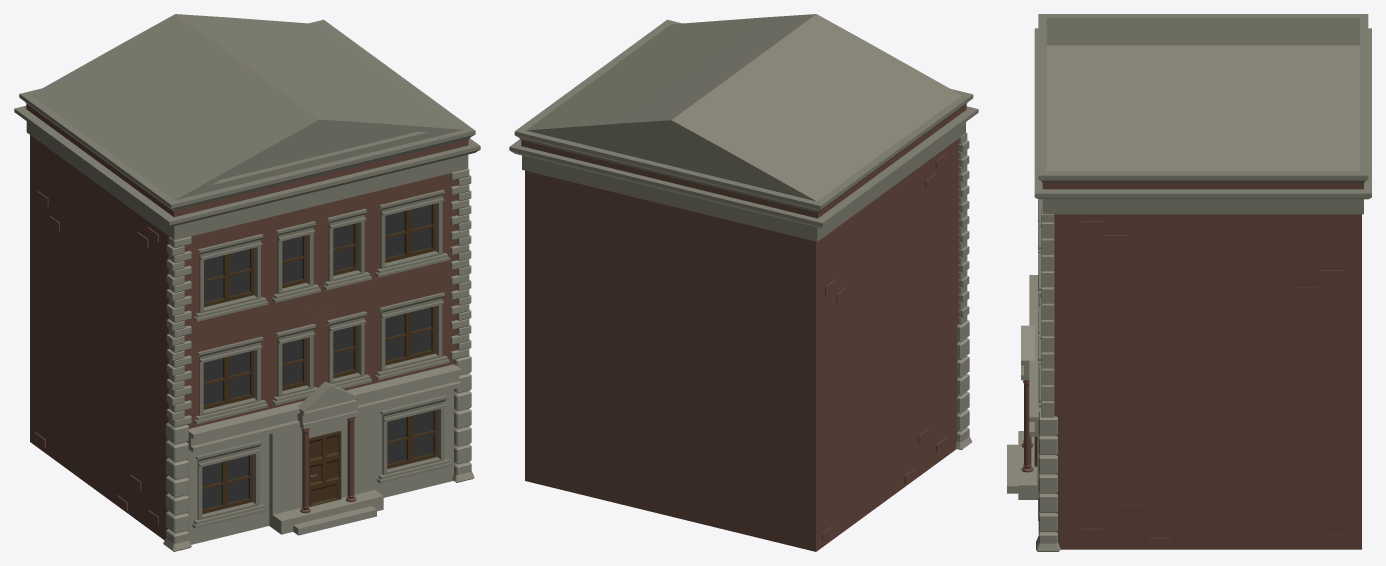
Rendered from Building3_Big.glb.
3 views of the same model, side by side, from view 1: azimuth 30°, elevation 25°; view 2: azimuth 150°, elevation 25°; view 3: azimuth 270°, elevation 25° (orthographic). The views are drawn at different scales.
Parts seen in each view (by area): view 1: Building3_Big; view 2: Building3_Big; view 3: Building3_Big.
Part boxes in pixels (x1=…): Building3_Big: x1=14, y1=14, x2=480, y2=551; Building3_Big: x1=509, y1=14, x2=978, y2=551; Building3_Big: x1=1007, y1=14, x2=1371, y2=551.
Bounding box in the file's own units: 4.71 × 5.68 × 4.39.
